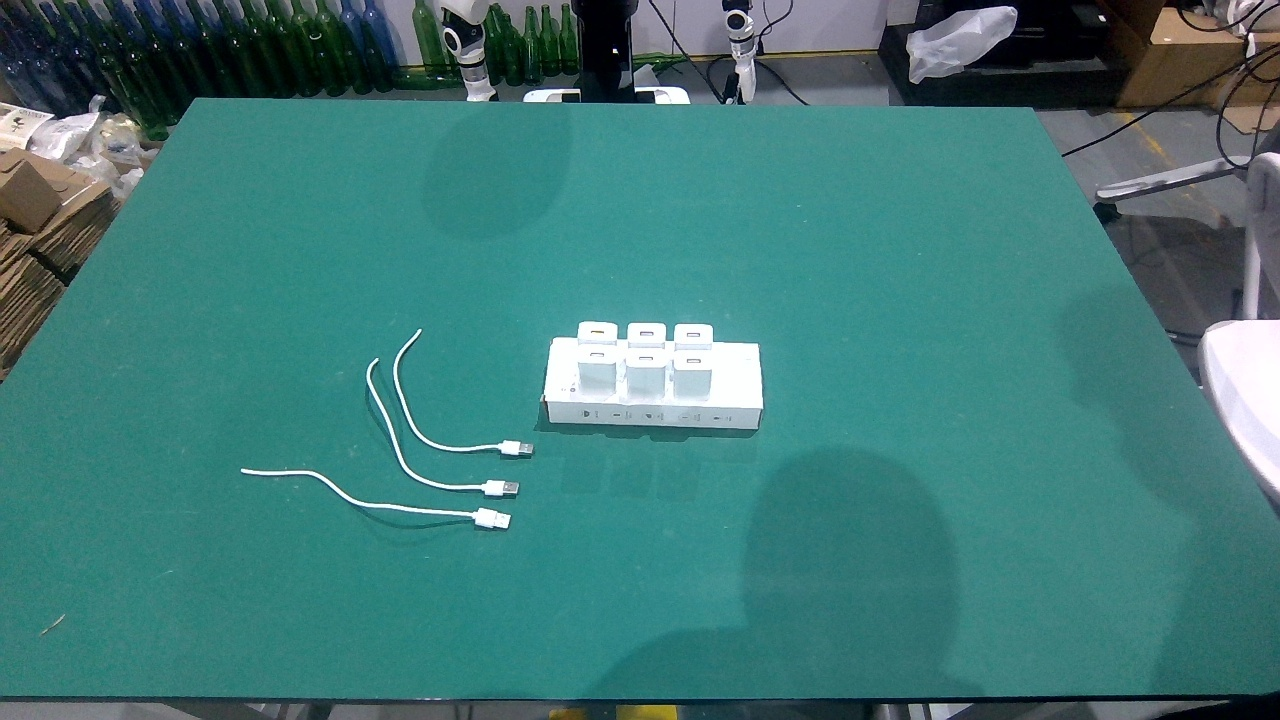usb_a_port: (588, 325, 607, 337), (638, 329, 656, 339), (637, 355, 655, 365), (683, 330, 703, 339), (588, 350, 606, 359), (684, 357, 703, 365)
